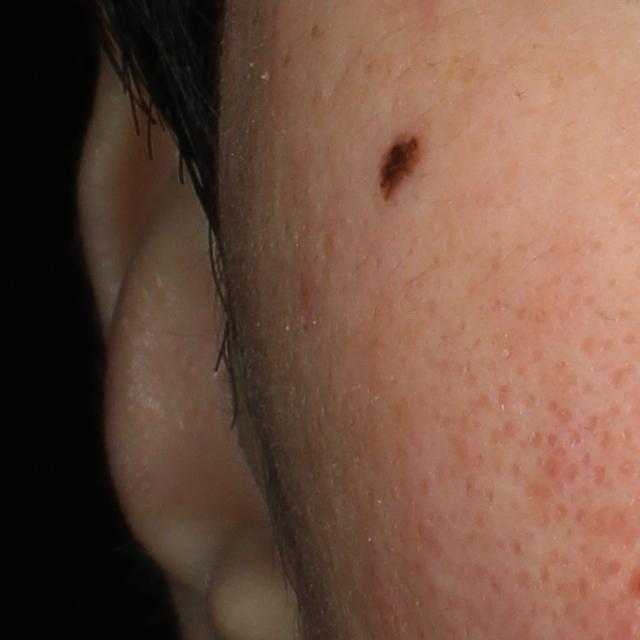atrophic_scar: (594, 554, 626, 586)
nevus: (375, 133, 430, 208)
